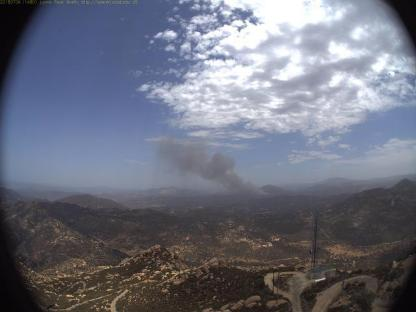smoke: (155, 127, 273, 203)
